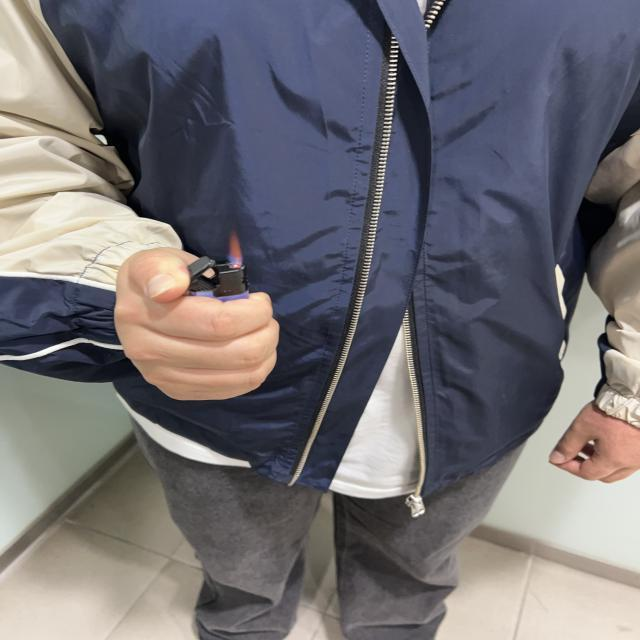fire: (230, 232, 243, 266)
